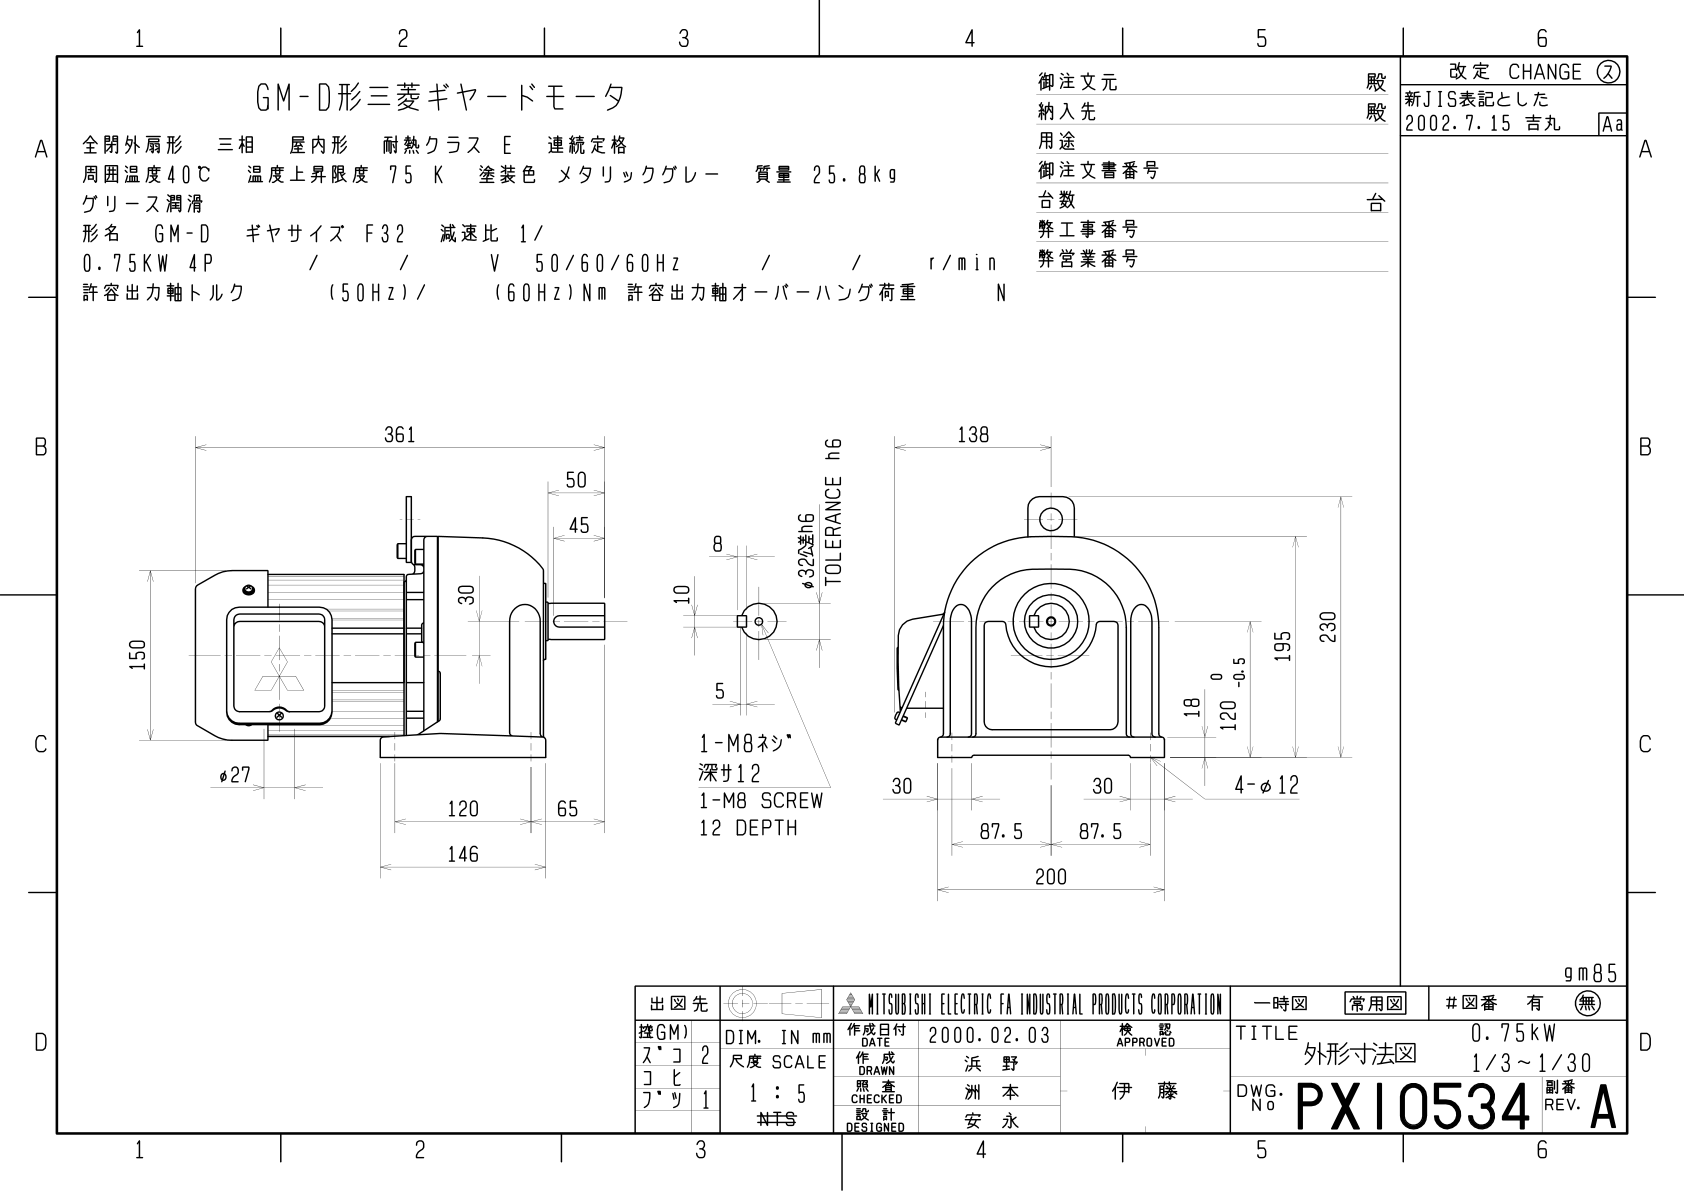GM_D_屋内＿三相_脚: (93, 360, 1375, 956)
